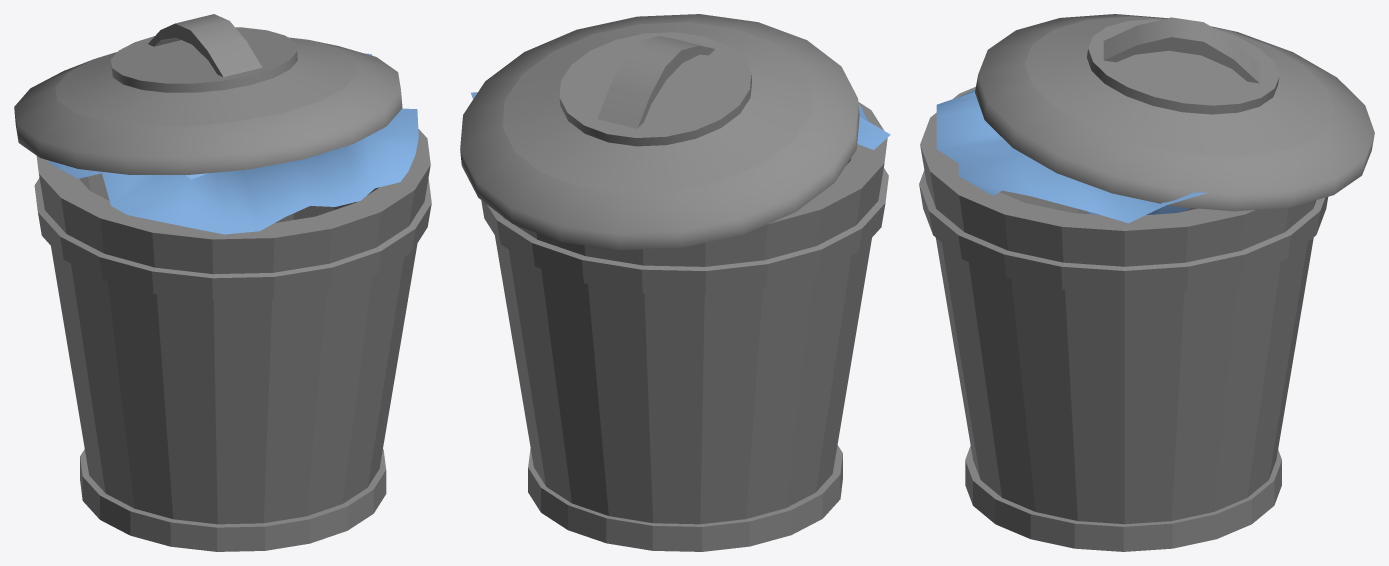
The model's file is traaaash.fbx.
The picture shows the model from 3 angles, left to right: view 1: azimuth 30°, elevation 25°; view 2: azimuth 150°, elevation 25°; view 3: azimuth 270°, elevation 25°; orthographic projection. The views are drawn at different scales.
Visible parts, largest first — view 1: polySurface2, polySurface1, pPlane1; view 2: polySurface2, polySurface1, pPlane1; view 3: polySurface2, polySurface1, pPlane1.
Boxes of the visible parts, box(x1,y1,x2,y2) form: polySurface2: box(34, 129, 431, 551); polySurface1: box(14, 14, 402, 174); pPlane1: box(48, 53, 418, 234); polySurface2: box(481, 102, 888, 551); polySurface1: box(460, 14, 859, 250); pPlane1: box(471, 92, 890, 149); polySurface2: box(919, 86, 1328, 551); polySurface1: box(975, 14, 1374, 211); pPlane1: box(936, 90, 1207, 223).
Bounding box in the file's own units: 8.18 × 10.05 × 9.06.
